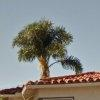Palm tree: (13, 11, 73, 78)
